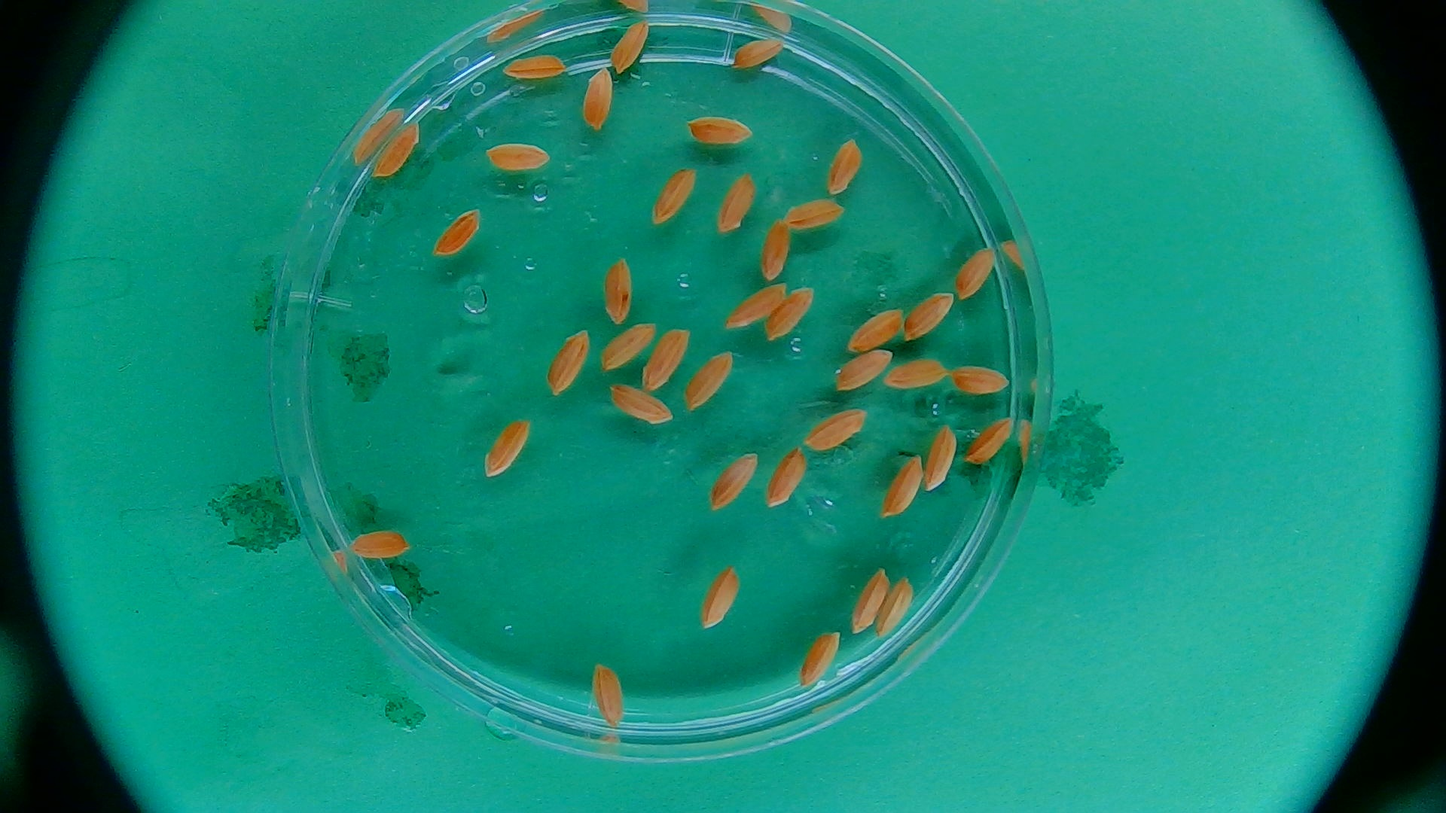no: (535, 324, 596, 401), (602, 379, 679, 437), (877, 444, 927, 532), (679, 347, 743, 412), (705, 446, 767, 513), (895, 284, 962, 344), (914, 425, 966, 502), (591, 256, 644, 331), (950, 234, 1006, 304), (642, 314, 689, 392), (943, 355, 1020, 402), (840, 303, 908, 356), (828, 343, 896, 396), (694, 560, 743, 633), (963, 409, 1017, 474), (609, 10, 660, 78), (761, 288, 820, 344), (791, 626, 844, 688), (800, 406, 876, 449), (371, 117, 423, 178), (764, 450, 814, 512), (721, 29, 792, 72), (680, 113, 760, 151), (483, 416, 532, 478), (715, 173, 760, 239), (880, 356, 956, 394), (846, 571, 892, 633), (579, 63, 619, 134), (820, 140, 867, 199), (725, 285, 789, 328), (880, 571, 917, 642), (602, 322, 654, 371), (589, 659, 625, 729), (434, 209, 484, 259), (780, 196, 850, 231), (651, 169, 695, 223), (499, 50, 572, 81), (351, 525, 409, 564), (481, 141, 552, 172), (761, 216, 792, 283)
